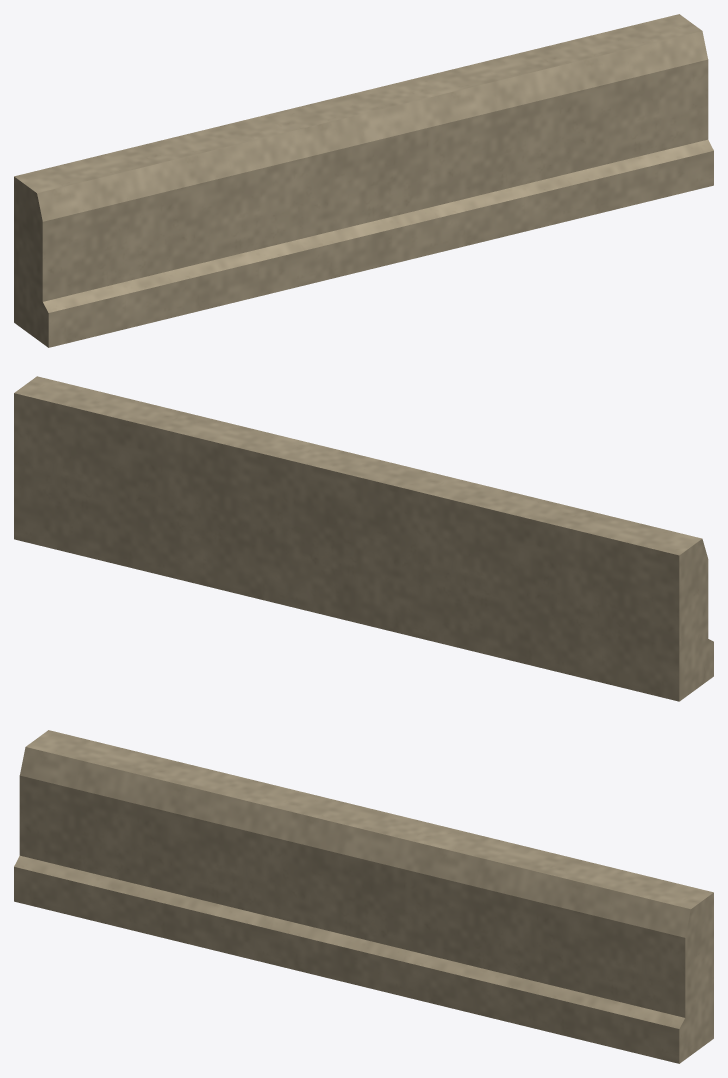
The model's file is sandstone-plinth.lod0.glb.
3 views of the same model, one above another, from view 1: azimuth 30°, elevation 25°; view 2: azimuth 150°, elevation 25°; view 3: azimuth 330°, elevation 25° (orthographic).
Visible parts, largest first — view 1: sandstone-plinth; view 2: sandstone-plinth; view 3: sandstone-plinth.
Part boxes in pixels (left/top/right/bottom): sandstone-plinth: left=14, top=14, right=713, bottom=347; sandstone-plinth: left=14, top=376, right=713, bottom=701; sandstone-plinth: left=14, top=730, right=713, bottom=1063.
Bounding box in the file's own units: 2 × 0.42 × 0.18.
Materials: 1 (1 with a texture image).
